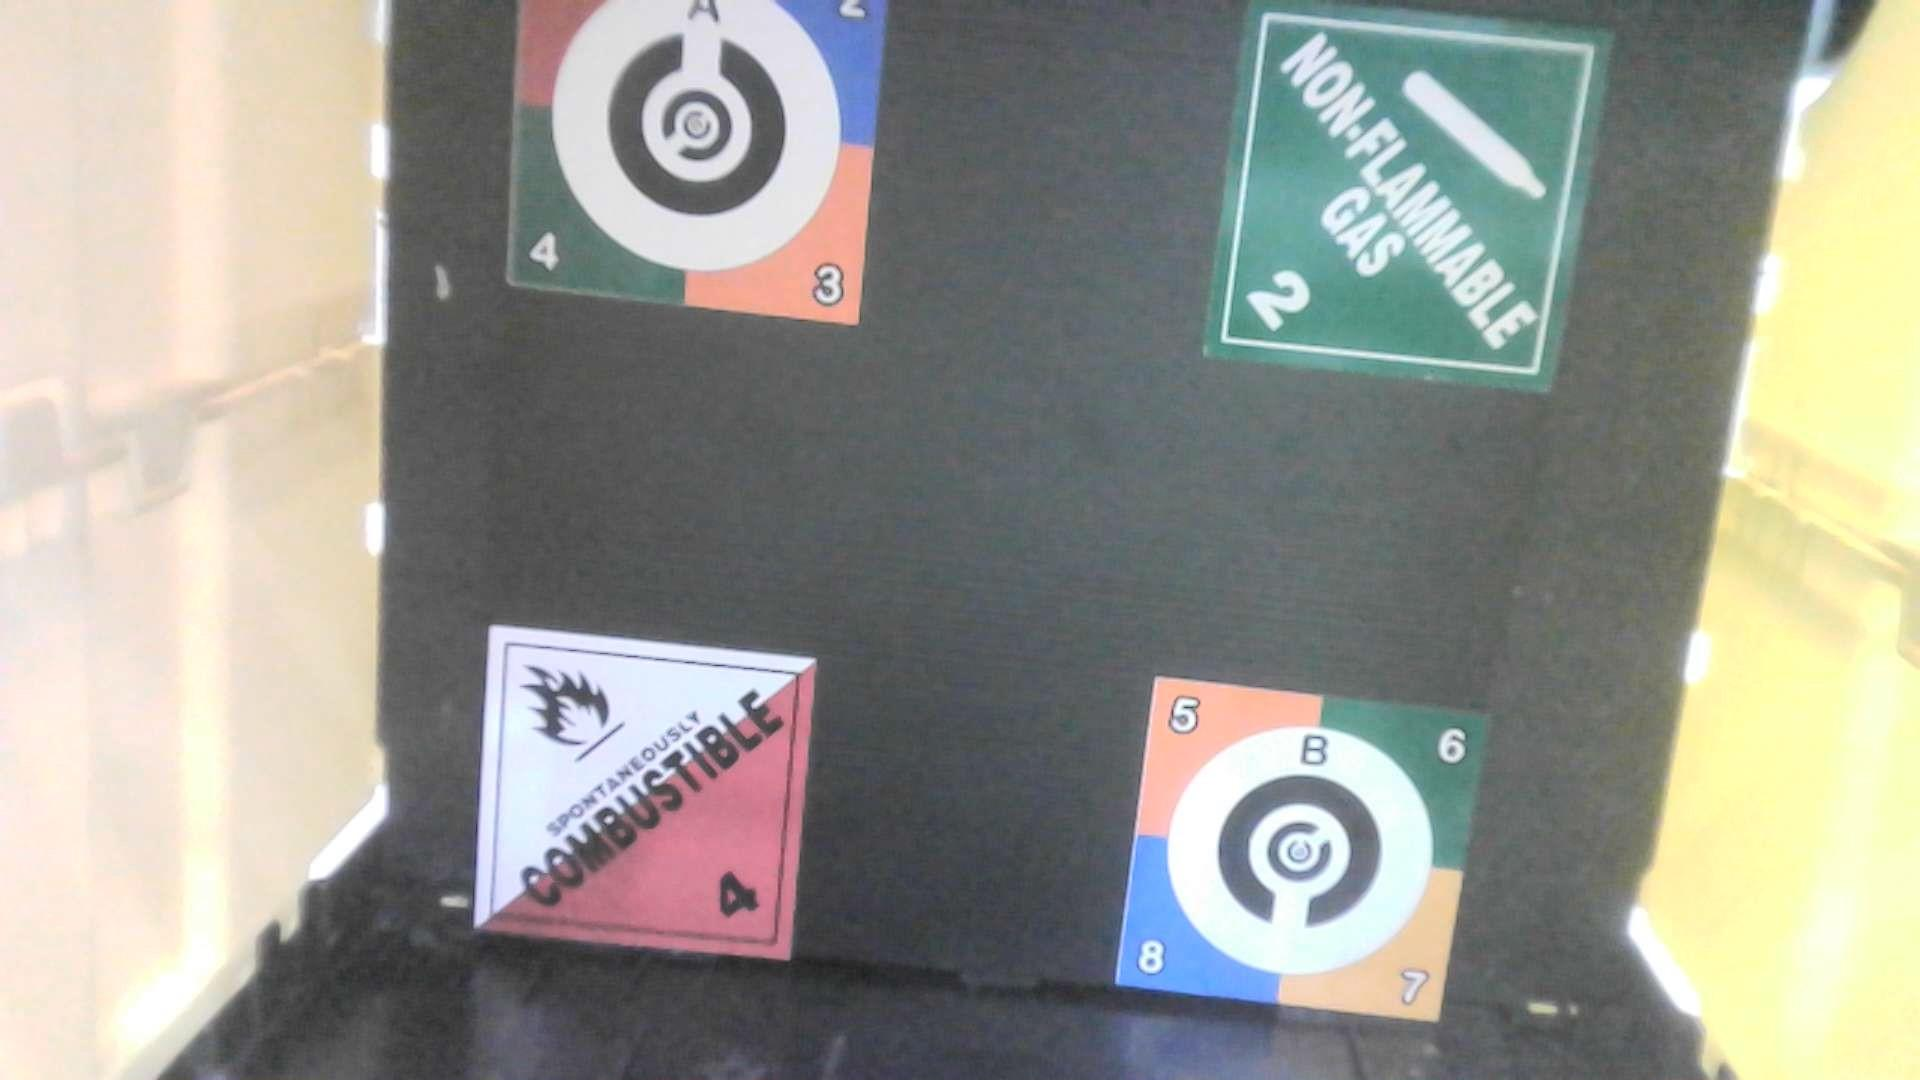non-flammable-gas: (1193, 1, 1604, 419)
spontaneously-combustible: (462, 609, 843, 996)
